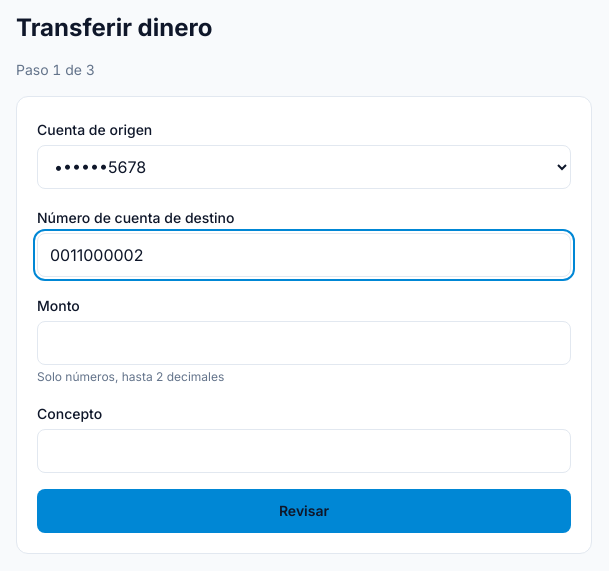
Transferencias: flujo de 3 pasos › flujo completo: revisión → OTP → un solo POST con X-Idempotency-Key aunque se haga doble clic → comprobante
Earlier steps of the test are not shown.
Type "50000" into the field labelled "Monto" at (304, 343), box [37,321,571,365]
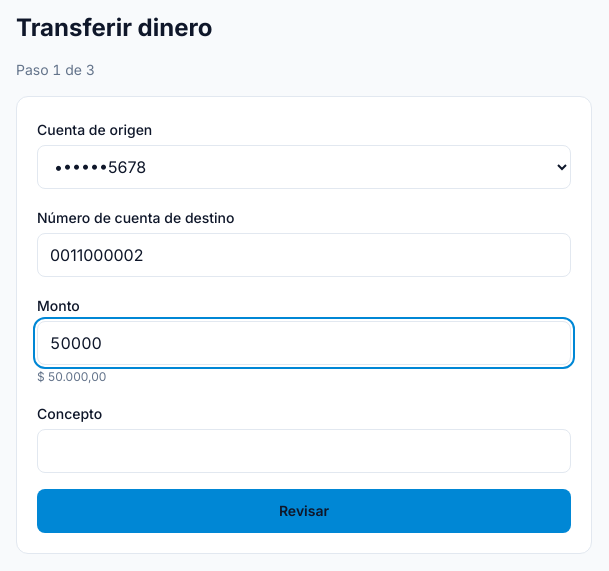
Type "Arriendo" into the field labelled "Concepto" at (304, 451), box [37,429,571,473]
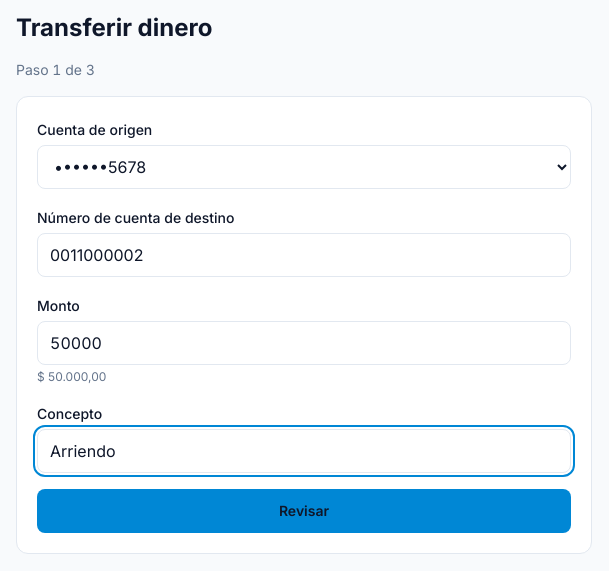
Click the button "Revisar" at (304, 511), box [37,489,571,533]
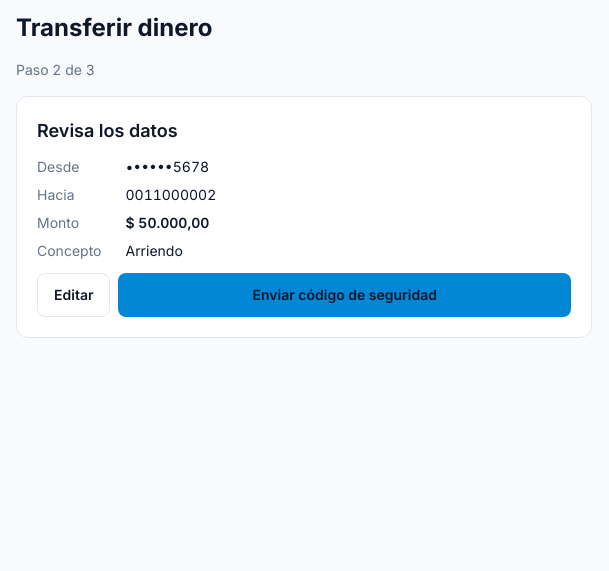
Check: the heading "Revisa los datos" is shown, box [37,120,178,141]
Click the button "Enviar código de seguridad" at (345, 295), box [118,273,571,317]
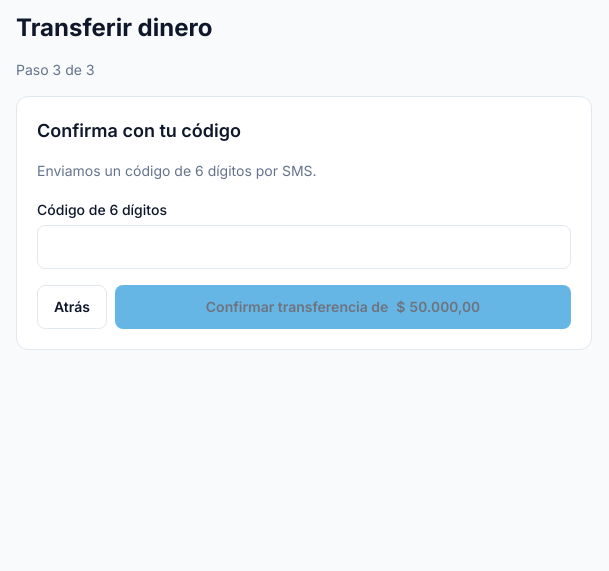
Check: the heading "Confirma con tu código" is shown, box [37,120,241,141]
Check: the button "Confirmar transferencia de $ 50.000,00" is disabled, box [115,285,571,329]
Type "12ab3456" into the field labelled "Código de 6 dígitos" at (304, 247), box [37,225,571,269]
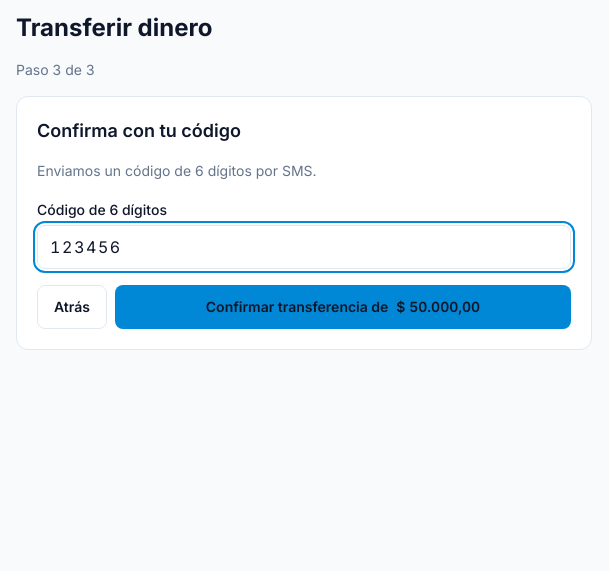
Check: the field labelled "Código de 6 dígitos" holds "123456", box [37,225,571,269]
Double-click the button "Confirmar transferencia de $ 50.000,00" at (343, 307), box [115,285,571,329]
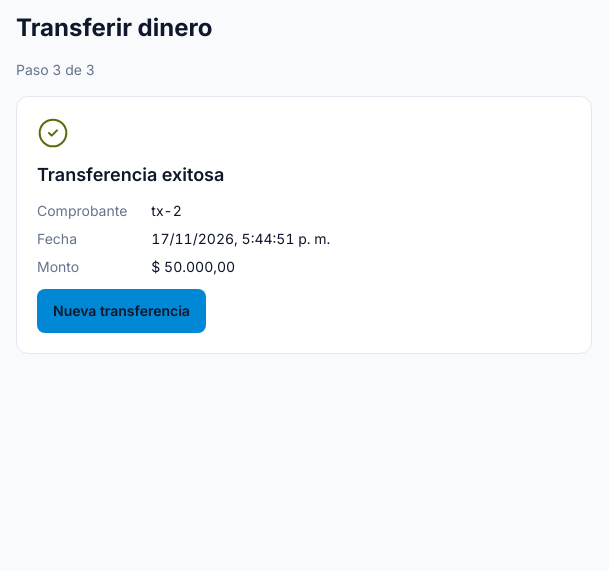
Check: the heading "Transferencia exitosa" is shown, box [37,164,224,185]
